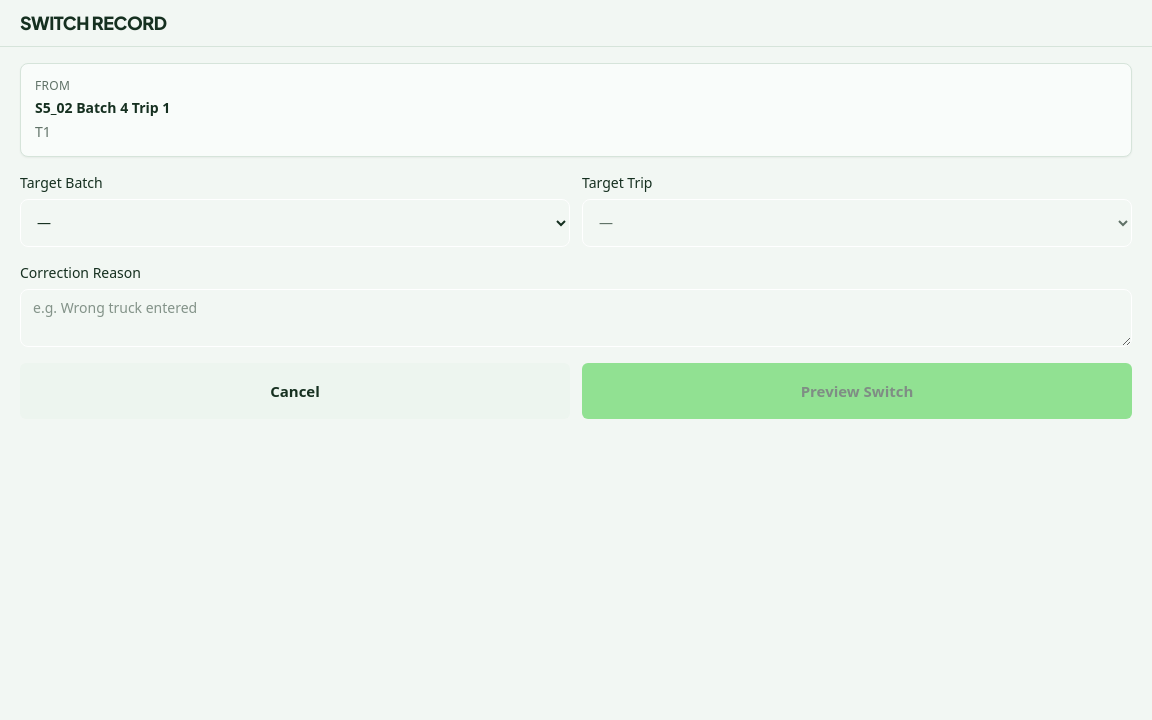
ProductionSwitchRecordPage — from a source record (MOVE/SWAP) › plans a MOVE when the target position is empty, and no arbitrary Rit text input exists
Expected: the heading "SWITCH RECORD" is shown, [20, 12, 167, 34]
Select "4" in the dropdown labelled "Target Batch" at {"x": 295, "y": 223}, box [20, 199, 570, 247]
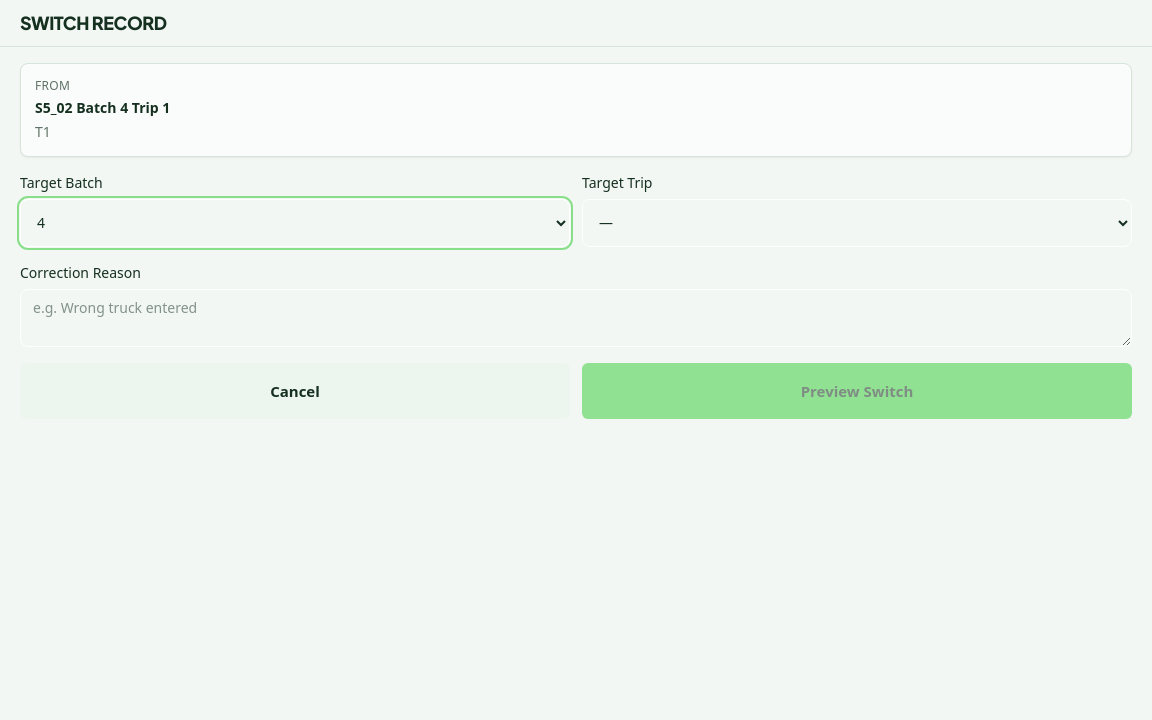
Select "9" in the dropdown labelled "Target Trip" at {"x": 857, "y": 223}, box [582, 199, 1132, 247]
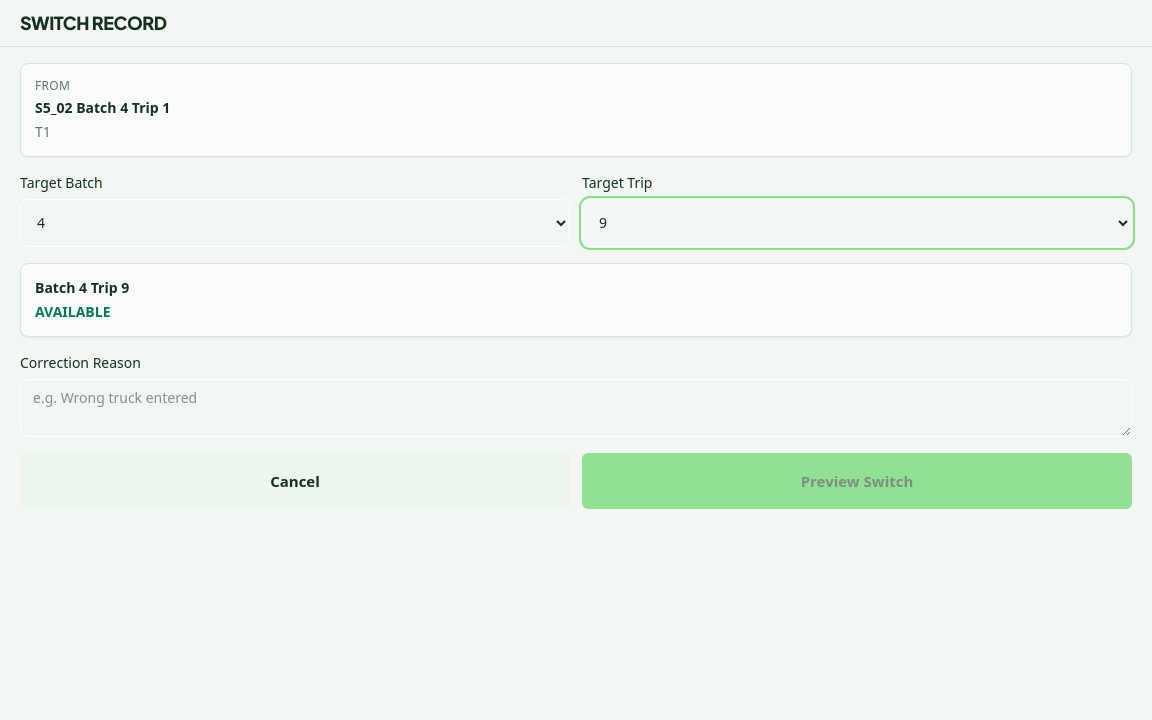
Now the text "AVAILABLE" is shown, box [35, 302, 110, 321]
Type "Salah posisi ritase" into the text box labelled "Correction Reason".
click(576, 408); type("Salah posisi ritase")  # box [20, 379, 1132, 437]
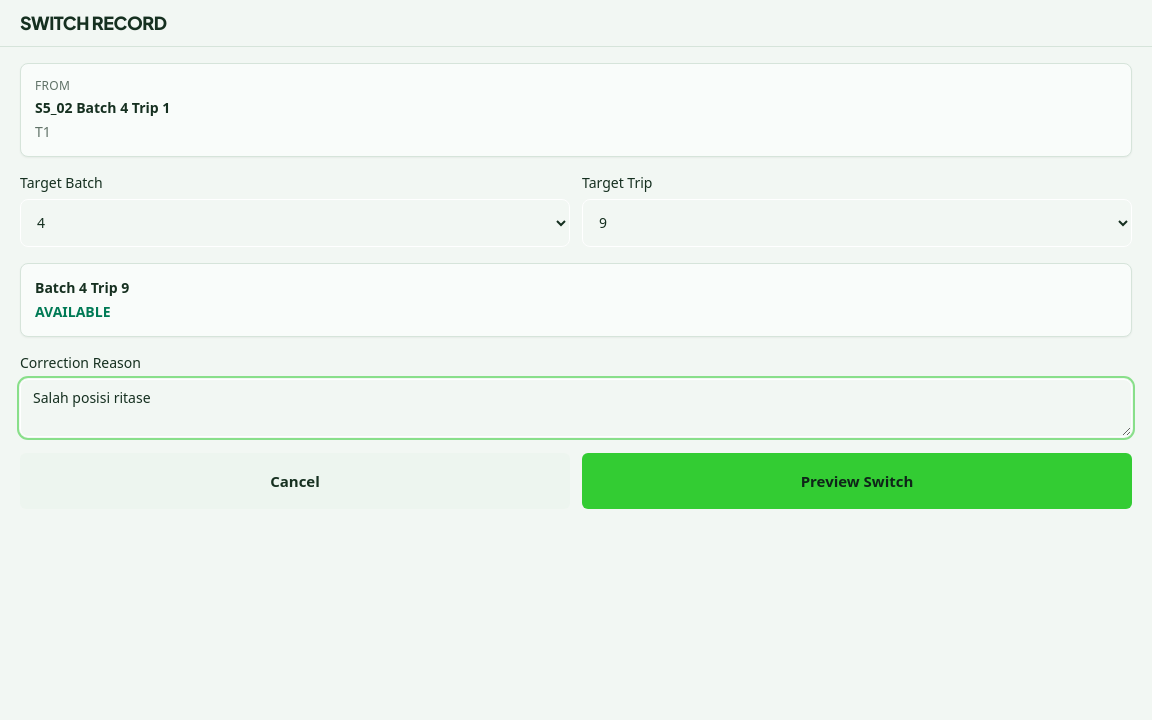
Click the button "Preview Switch".
click(857, 481)  # box [582, 453, 1132, 509]
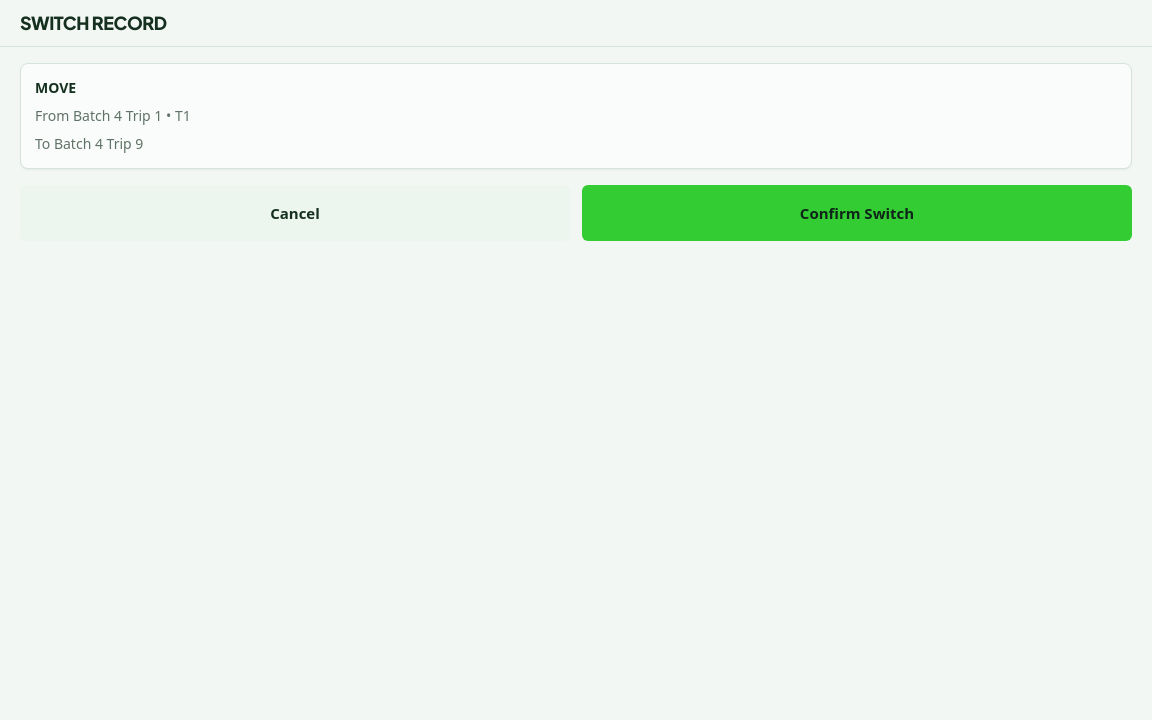
Now the text "MOVE" is shown, box [35, 78, 76, 97]
